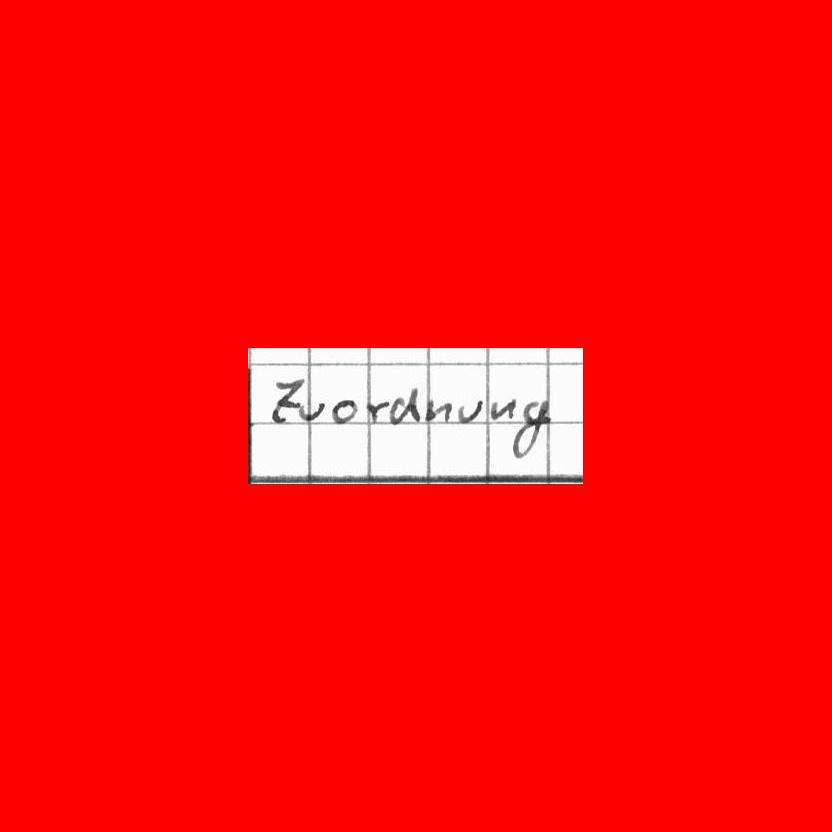Char: (510, 394, 552, 464), (268, 376, 303, 426), (390, 385, 420, 426), (331, 397, 359, 423), (424, 399, 453, 423), (488, 398, 517, 422), (457, 398, 483, 423), (296, 401, 325, 423), (365, 398, 388, 424)
